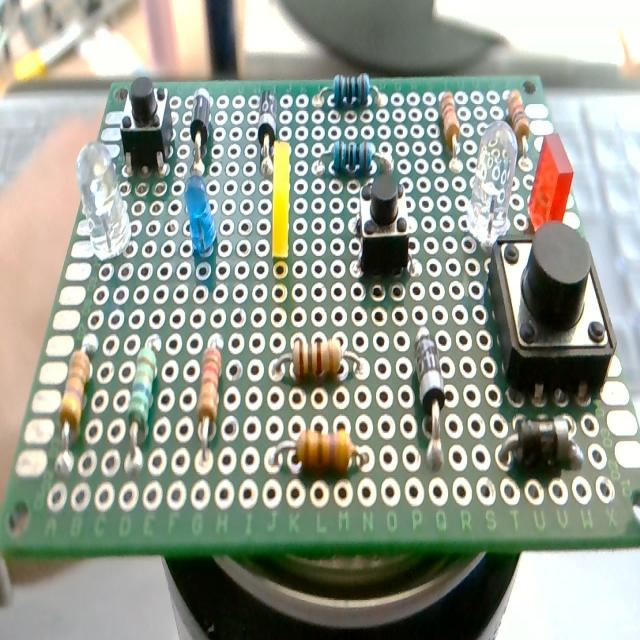diode: (414, 328, 448, 471), (499, 415, 583, 471), (188, 86, 214, 176), (256, 88, 276, 176)
led: (464, 120, 518, 250), (74, 140, 131, 262), (528, 131, 574, 233), (184, 174, 217, 255), (271, 140, 291, 264)
resistor: (272, 426, 368, 476), (125, 337, 160, 468), (272, 334, 363, 384), (196, 340, 224, 452), (60, 346, 92, 435), (314, 74, 382, 108), (330, 138, 376, 176), (507, 89, 529, 149), (439, 91, 460, 150)
switch: (487, 223, 614, 397), (356, 172, 410, 278), (120, 77, 173, 175)
